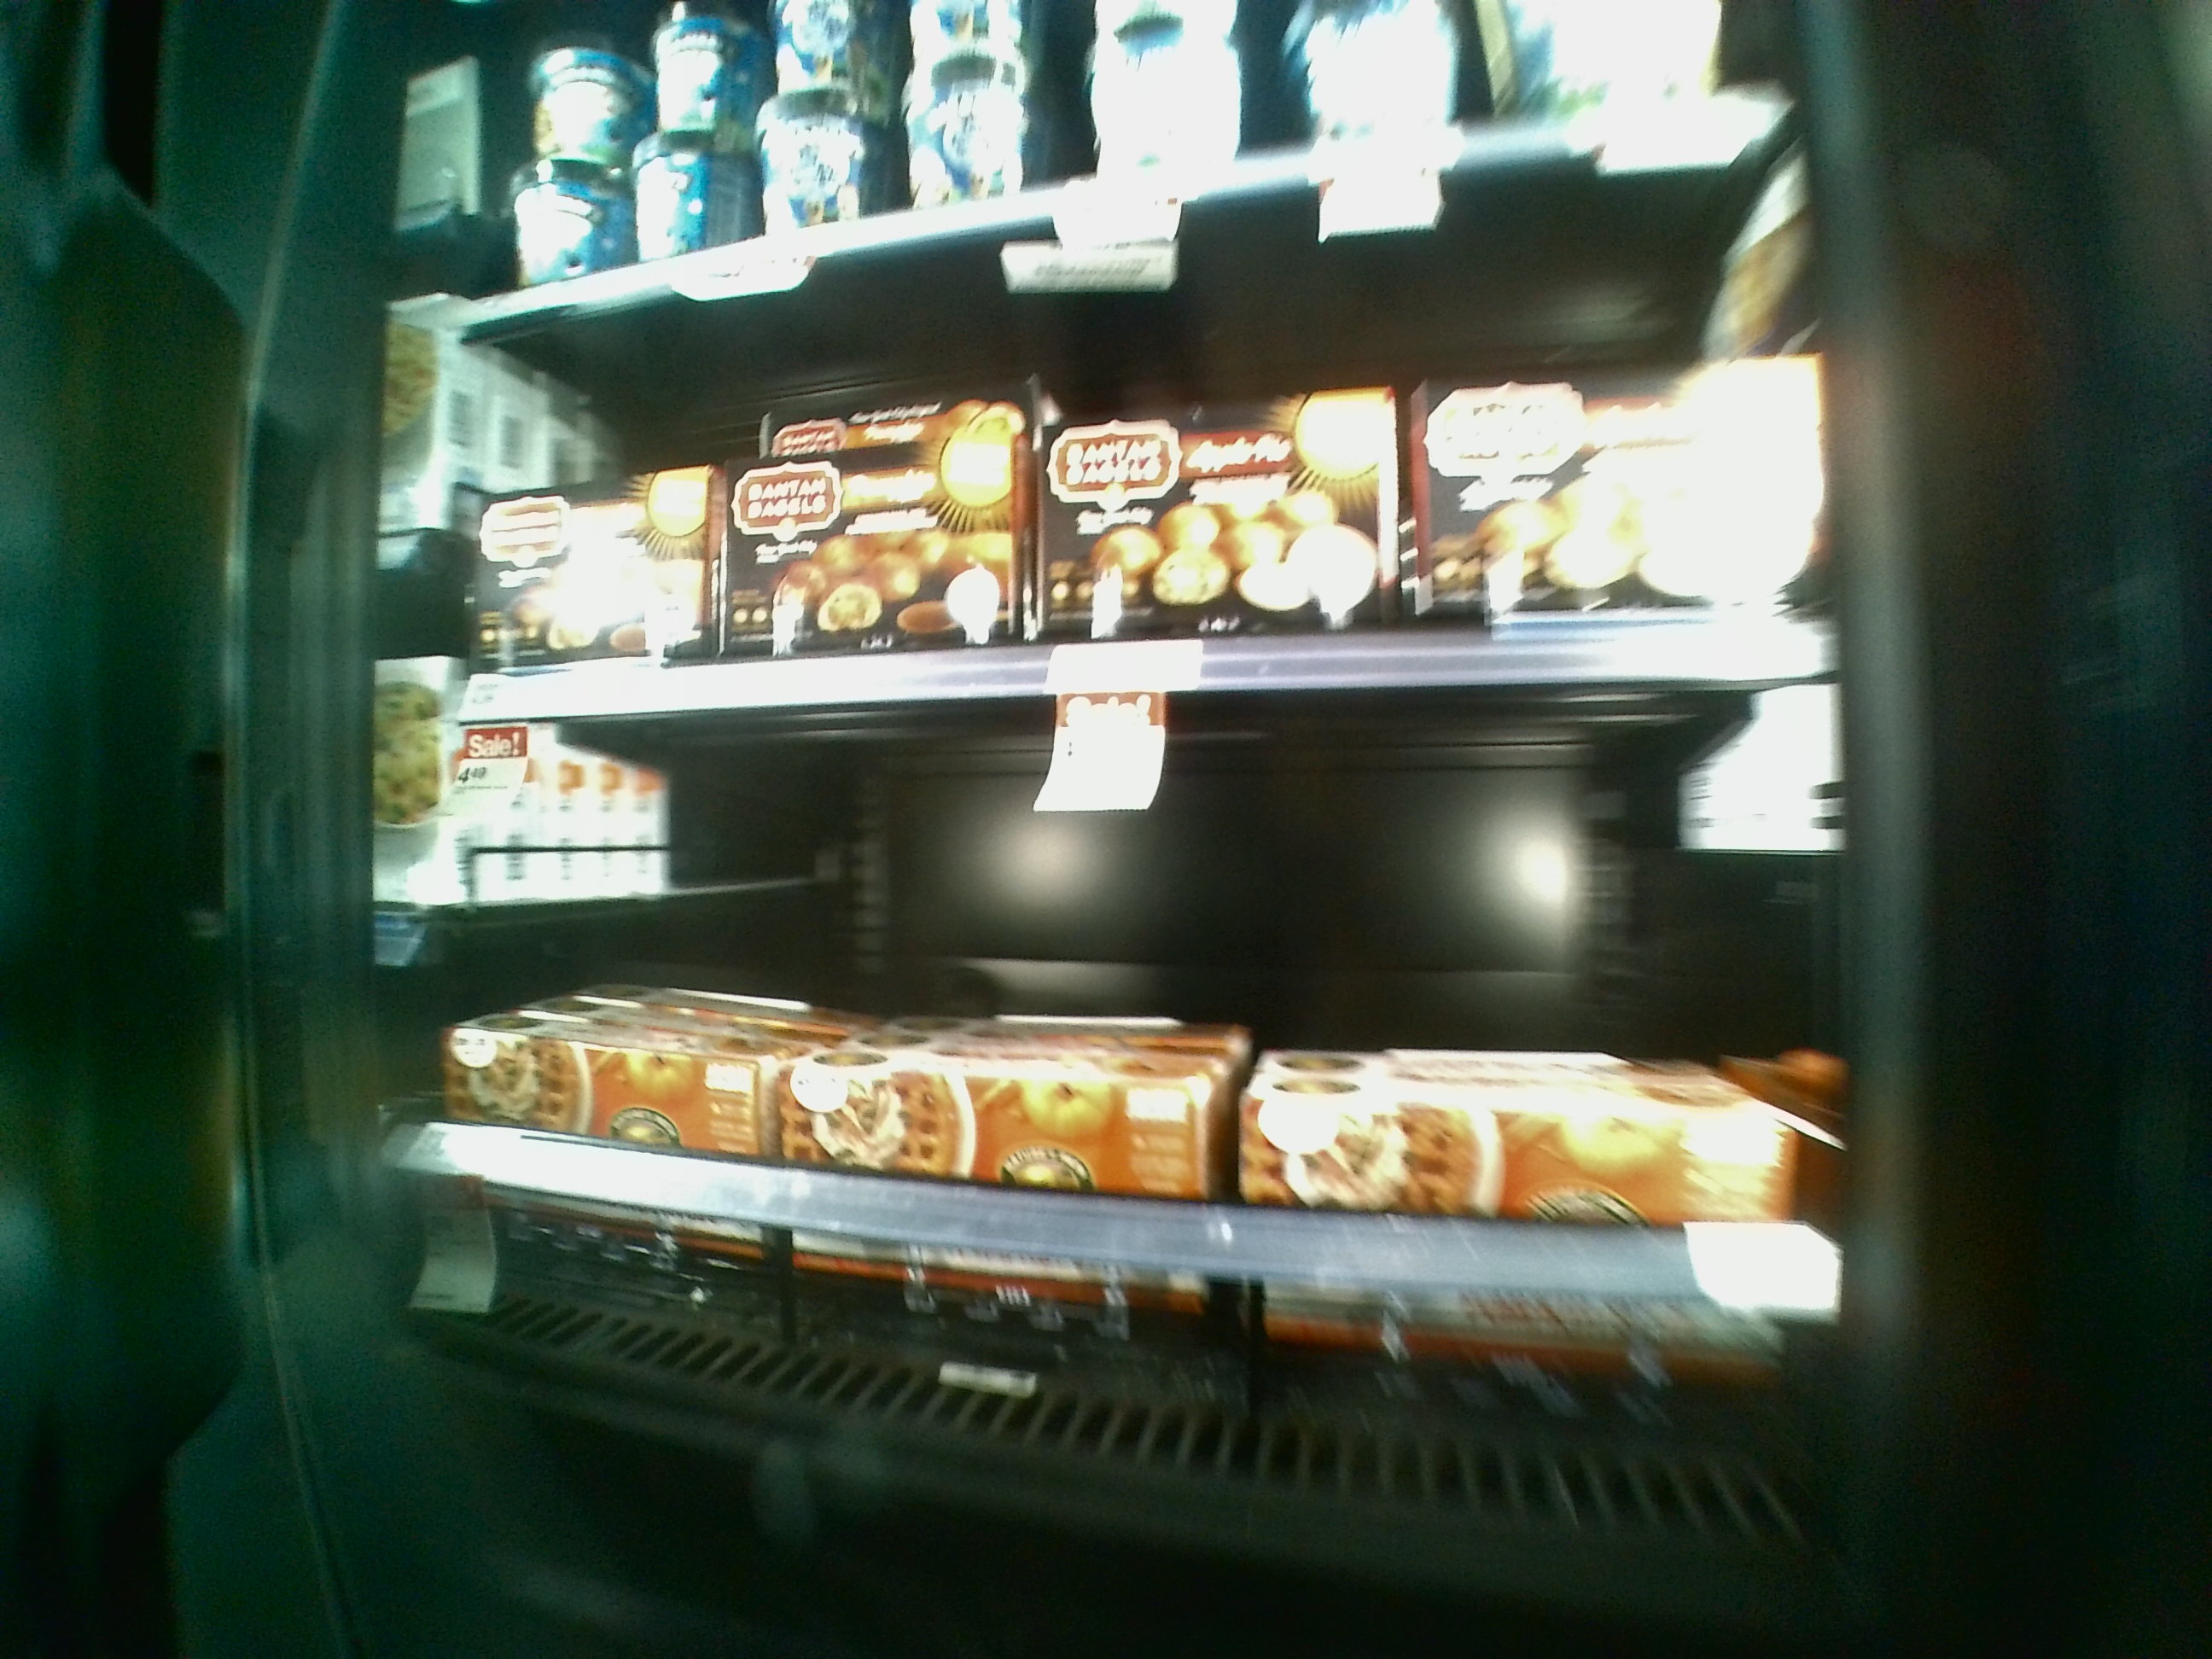shelf: (449, 701, 1860, 1513), (479, 239, 1832, 678)
